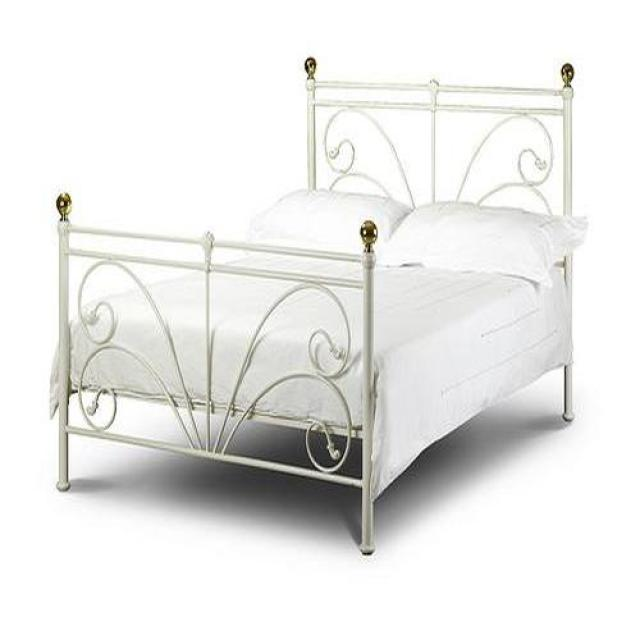bed: (47, 74, 591, 558)
